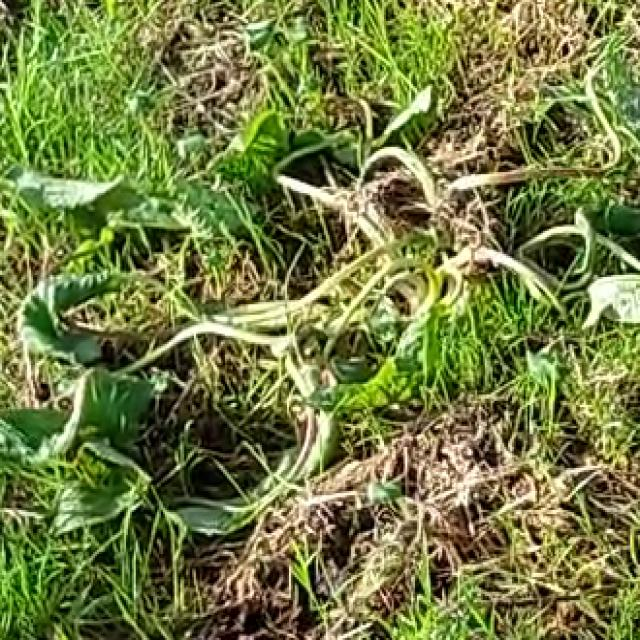organic waste: (31, 52, 632, 575)
